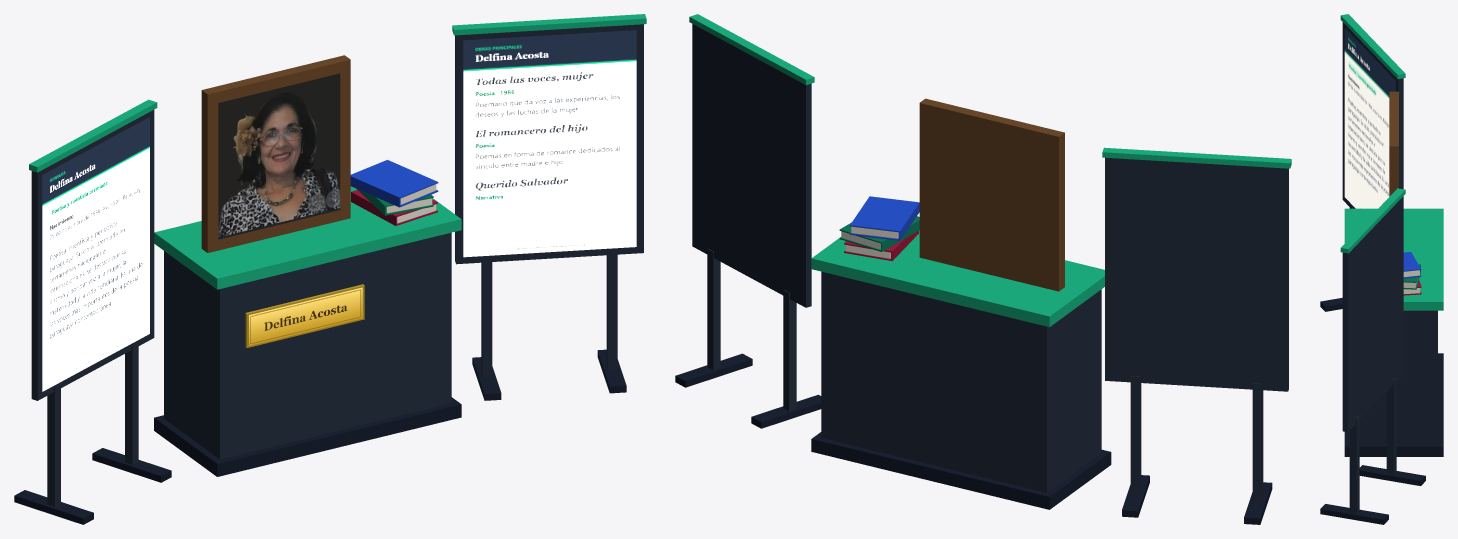
Rendered from delfina-acosta.glb.
3 views of the same model, side by side, from view 1: azimuth 30°, elevation 25°; view 2: azimuth 150°, elevation 25°; view 3: azimuth 270°, elevation 25° (orthographic). The views are drawn at different scales.
Parts seen in each view (by area): view 1: pedestal (×7), obras, biografia, retrato, esmeralda (×3), marco, zocalo (×3), placa_nombre, tapa_azul, placa; view 2: pedestal (×7), marco, esmeralda (×3), zocalo (×3), tapa_azul; view 3: pedestal (×5), biografia, esmeralda (×3), zocalo (×4), marco, tapa_azul.
Boxes of the visible parts, x1=… form: pedestal (×7): x1=31, y1=24, x2=643, y2=506; obras: x1=463, y1=30, x2=636, y2=257; biografia: x1=42, y1=117, x2=149, y2=391; retrato: x1=218, y1=73, x2=340, y2=239; esmeralda (×3): x1=29, y1=14, x2=646, y2=289; marco: x1=201, y1=55, x2=350, y2=252; zocalo (×3): x1=14, y1=397, x2=461, y2=524; placa_nombre: x1=249, y1=287, x2=362, y2=345; tapa_azul: x1=350, y1=160, x2=438, y2=198; placa: x1=245, y1=284, x2=364, y2=347; pedestal (×7): x1=692, y1=24, x2=1288, y2=502; marco: x1=919, y1=98, x2=1064, y2=291; esmeralda (×3): x1=689, y1=14, x2=1291, y2=327; zocalo (×3): x1=675, y1=353, x2=1111, y2=509; tapa_azul: x1=850, y1=196, x2=919, y2=232; pedestal (×5): x1=1342, y1=22, x2=1437, y2=513; biografia: x1=1344, y1=28, x2=1395, y2=208; esmeralda (×3): x1=1340, y1=14, x2=1443, y2=310; zocalo (×4): x1=1320, y1=297, x2=1443, y2=524; marco: x1=1389, y1=91, x2=1398, y2=196; tapa_azul: x1=1403, y1=252, x2=1421, y2=271.
Size of the model in its own units: 2.93 by 1.62 by 0.6481.
13 materials, 4 textured.
